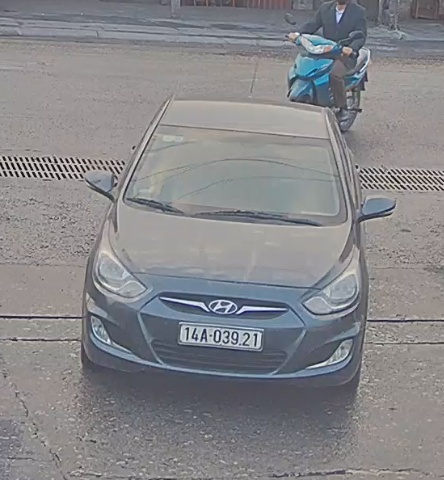vehicle plate: (170, 319, 265, 354)
